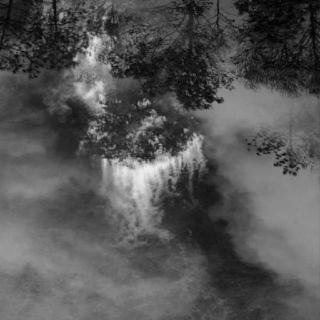Smoke: (176, 185, 314, 318)
